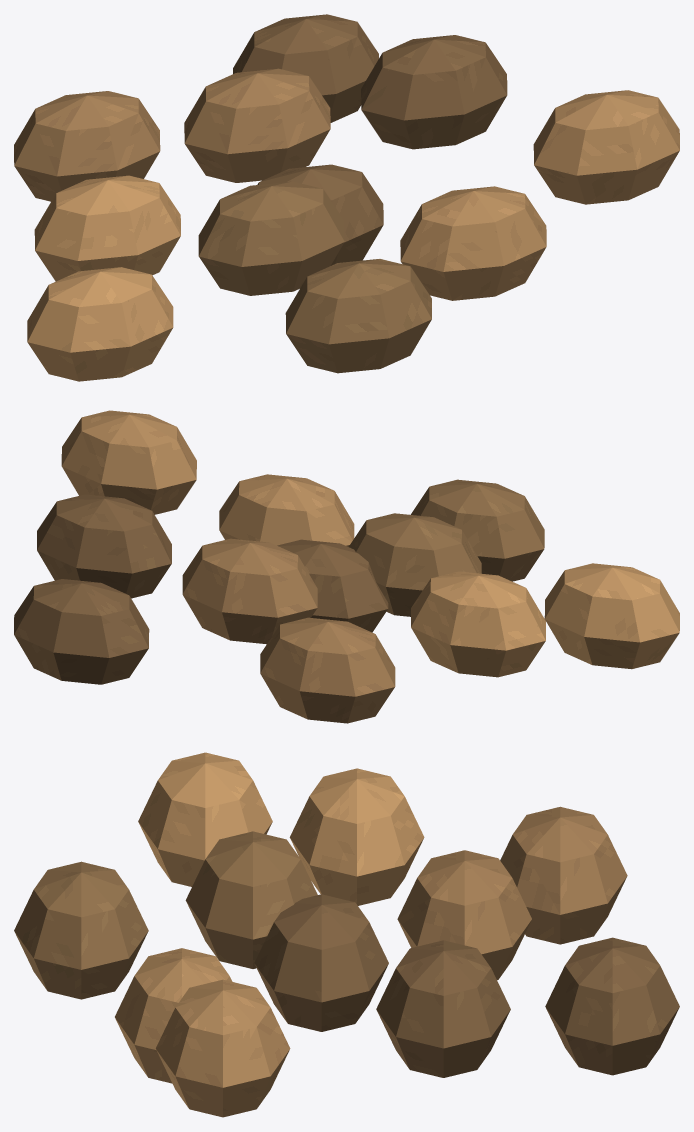
File: granola.glb
3 renders of one model, top to bottom at view 1: azimuth 30°, elevation 25°; view 2: azimuth 150°, elevation 25°; view 3: azimuth 270°, elevation 25°, orthographic. The views are drawn at different scales.
Visible parts, largest first — view 1: block_snack pieces (×11); view 2: block_snack pieces (×11); view 3: block_snack pieces (×11).
Boxes of the visible parts, <box> form: block_snack pieces (×11): <box>14,14,679,381</box>; block_snack pieces (×11): <box>14,410,679,723</box>; block_snack pieces (×11): <box>14,752,679,1117</box>.
Size of the model in its own units: 0.0756 by 0.0165 by 0.0597.
Materials: 1 (1 with a texture image).
